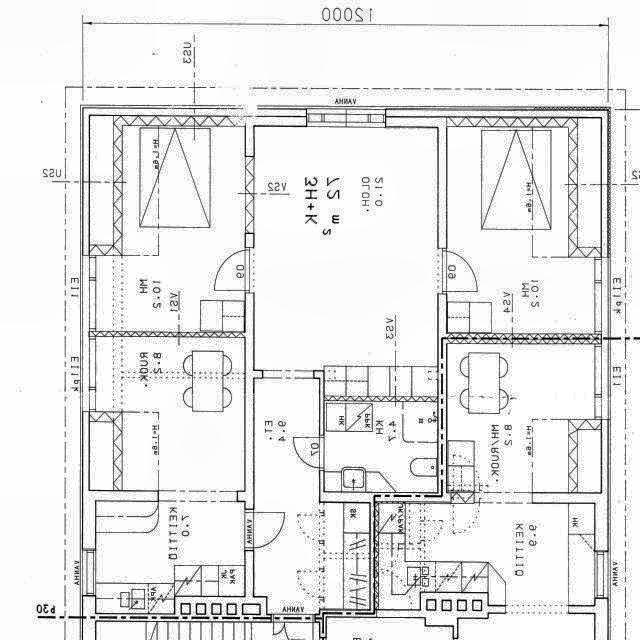room: (447, 118, 601, 334), (96, 126, 246, 332), (375, 503, 594, 610), (447, 344, 601, 492), (96, 501, 245, 614), (254, 379, 319, 614), (324, 401, 438, 492), (324, 559, 370, 609), (324, 503, 369, 553)
